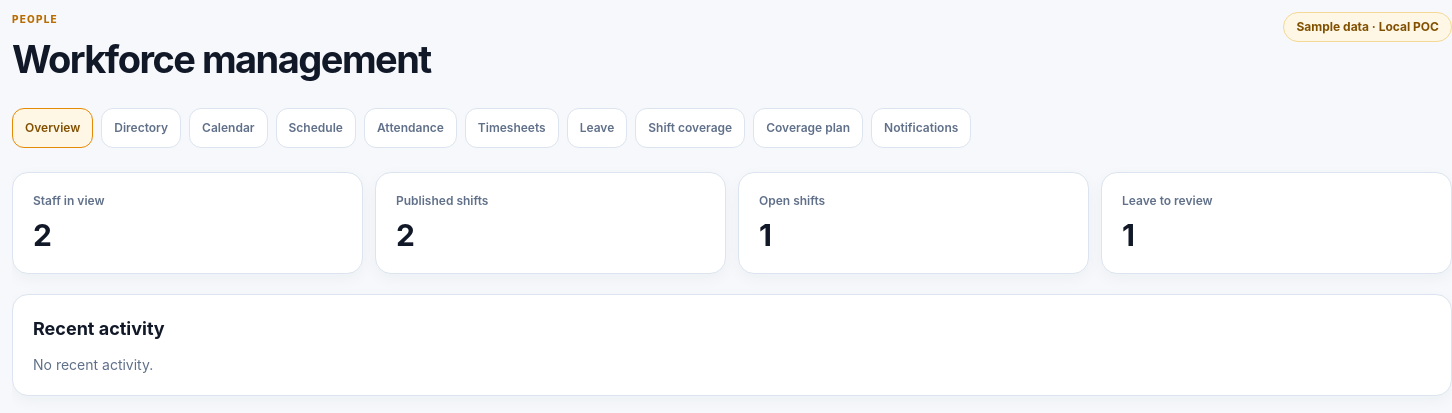
Test: local workforce POC › lets a manager approve a direct report's pending leave
Click the button "Leave" at [597, 128], box [567,108,627,148]
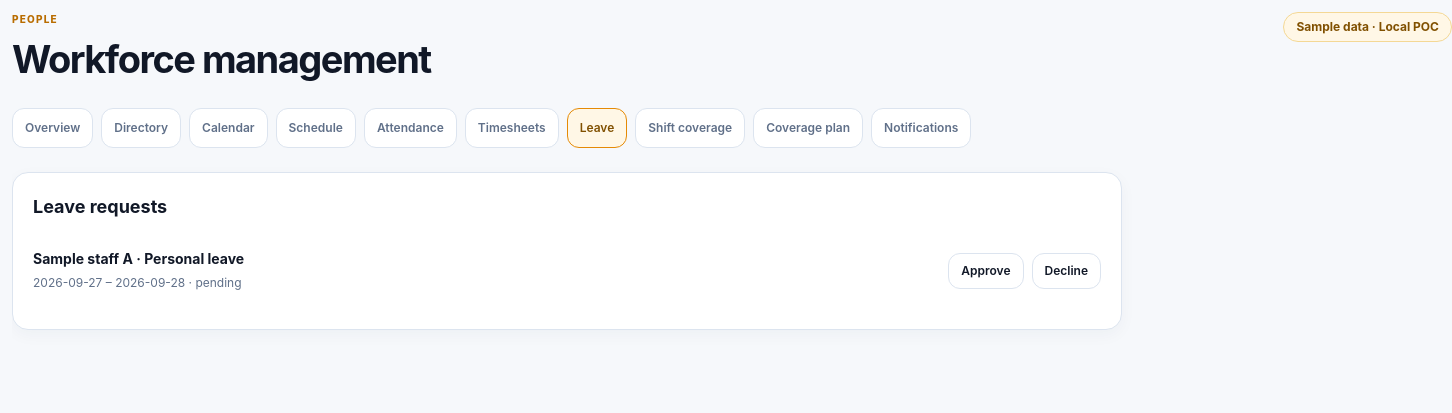
Click the button "Approve" at [986, 271], box [948,253,1024,289]
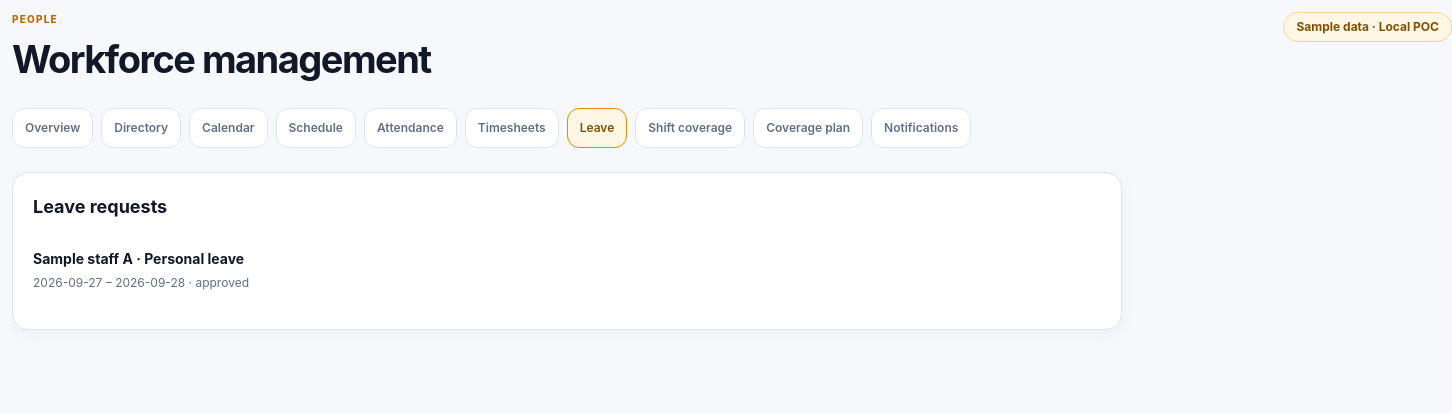
Check: the text "2026-09-27 – 2026-09-28 · approved" is shown, box [33,275,249,290]
